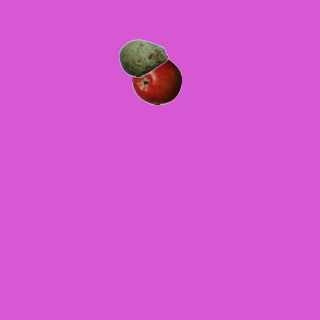Apple Braeburn: (131, 55, 181, 105)
Pear Stone: (118, 33, 168, 83)
